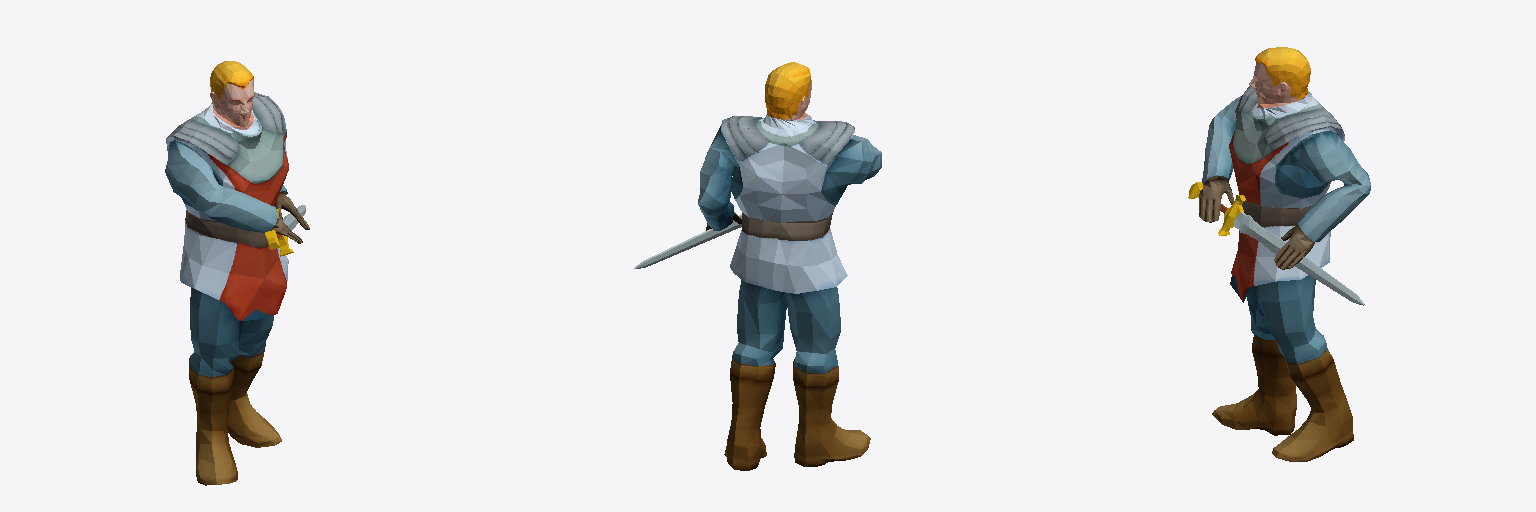
3 renders of one model, left to right at view 1: azimuth 30°, elevation 25°; view 2: azimuth 150°, elevation 25°; view 3: azimuth 270°, elevation 25°, orthographic.
Parts seen in each view (by area): view 1: Mesh1, Sword_model group; view 2: Mesh1, Sword_model group; view 3: Mesh1, Sword_model group.
Boxes of the visible parts, box(x1,y1,x2,y2) form: Mesh1: box(165, 61, 309, 485); Sword_model group: box(265, 205, 305, 256); Mesh1: box(698, 62, 881, 470); Sword_model group: box(634, 214, 741, 268); Mesh1: box(1199, 47, 1370, 461); Sword_model group: box(1188, 182, 1364, 305).
Size of the model in its own units: 8.72 by 17.75 by 7.51.
Materials: 2 (2 with a texture image).